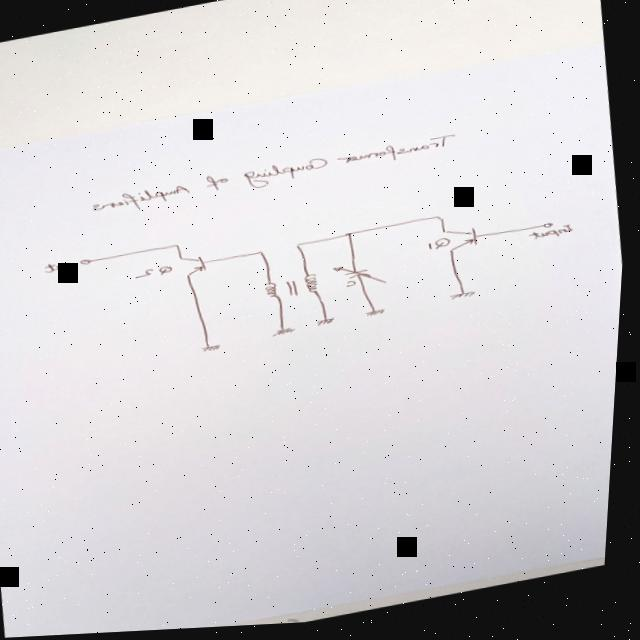capacitor: (334, 260, 392, 296)
ground: (451, 293, 481, 306), (273, 328, 301, 340), (317, 318, 342, 330), (203, 344, 227, 354), (367, 311, 390, 321)
junction: (437, 218, 448, 226), (346, 234, 356, 240), (175, 244, 184, 250), (258, 252, 267, 257), (296, 246, 304, 251)
terminal: (544, 226, 557, 234), (82, 258, 95, 266)
text: (91, 131, 462, 220), (529, 228, 577, 247), (136, 264, 177, 281), (45, 259, 77, 274), (430, 239, 455, 254), (346, 282, 361, 291)
transformer: (266, 274, 325, 305)
transistor: (443, 228, 483, 257), (179, 253, 213, 280)
